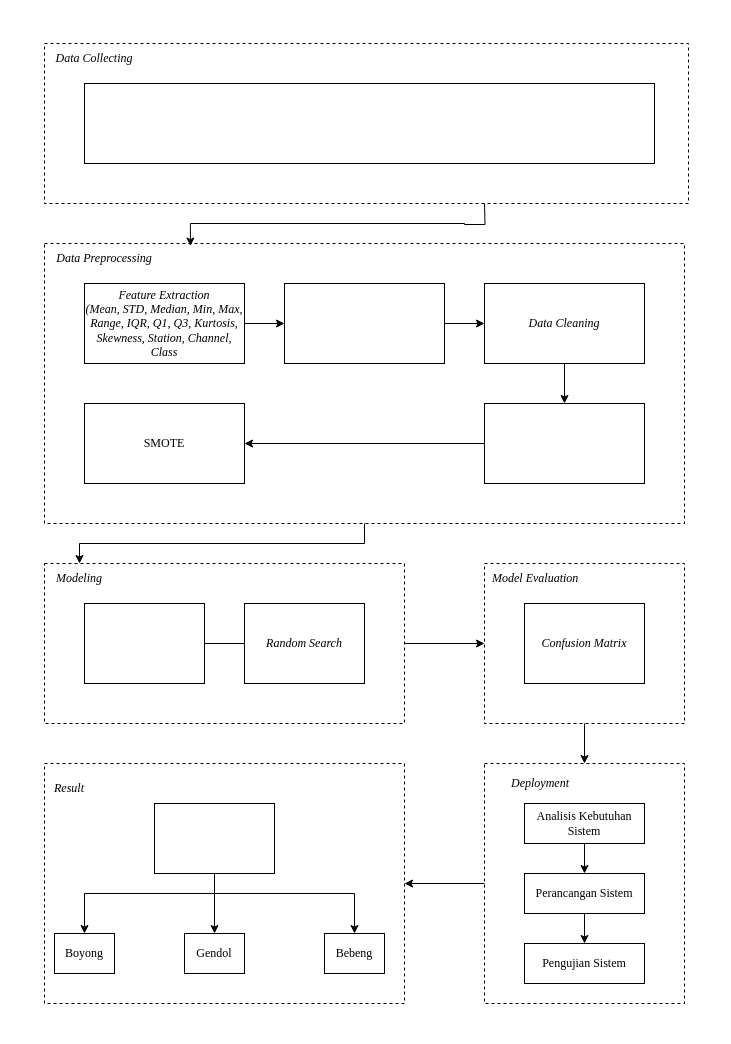
The diagram is 731 pixels wide and 1044 high, and some of its shapes have lost their labels. The shapes that lost their labels are listed below. From the top down, each one's centre as x and y in pixels, then its label:
At (369,123): "Sinyal Seismik Arah Guguran Gunung Merapi (BPPTKG)".
At (364,323): "Dataframe Making (MEPAS, MELAB, MEPAS & MELAB Combined)".
At (564,443): "Data Splitting".
At (144,643): "K-Nearest Neighbors".
At (214,838): "Identifikasi Arah Guguran".
